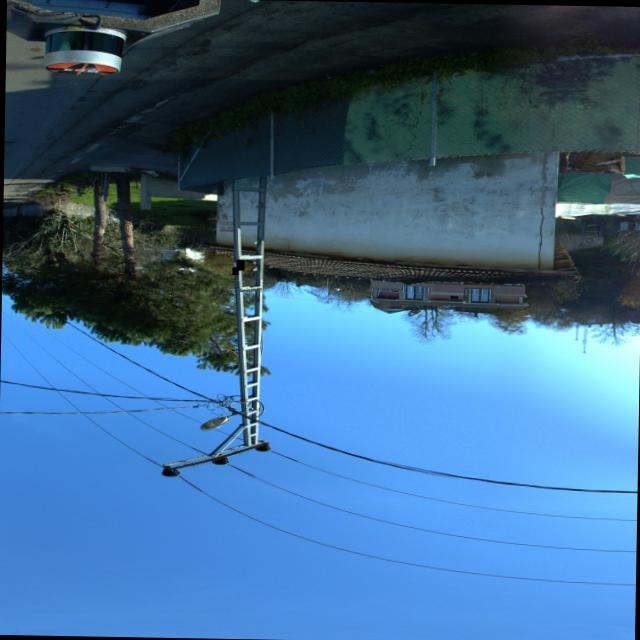Utility Pole Information Plate: (235, 258, 243, 269), (231, 266, 237, 274)
